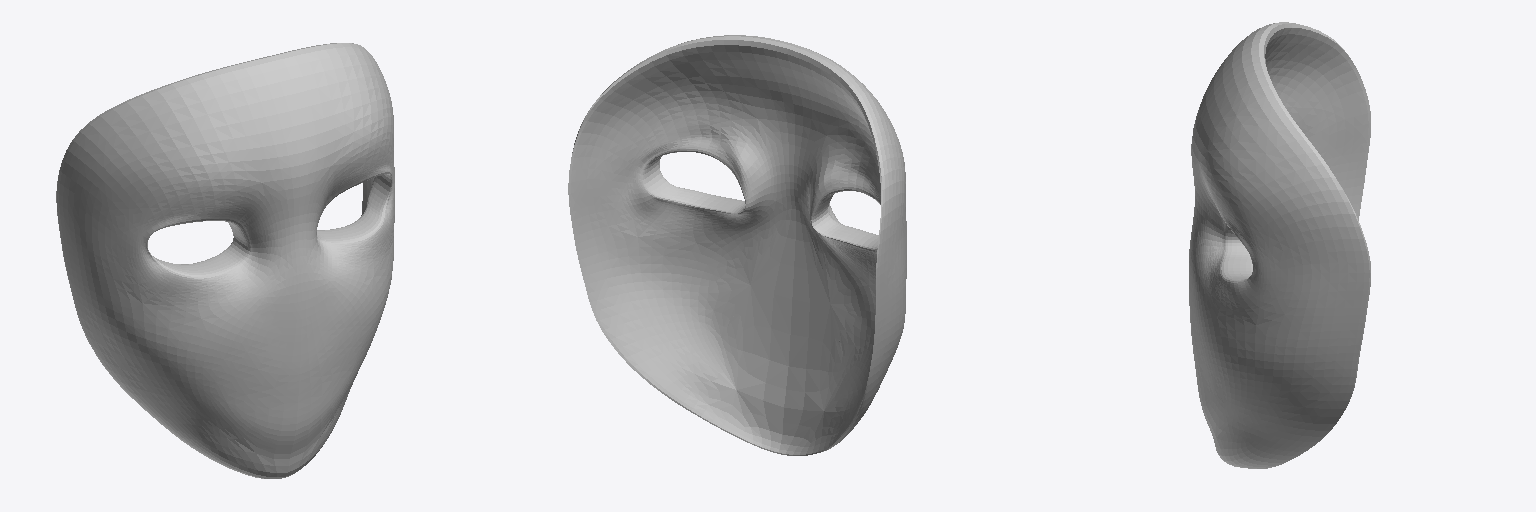
The picture shows the model from 3 angles: view 1: azimuth 30°, elevation 25°; view 2: azimuth 150°, elevation 25°; view 3: azimuth 270°, elevation 25°; orthographic projection.
Parts seen in each view (by area): view 1: body_Circle; view 2: body_Circle; view 3: body_Circle.
Part boxes in pixels (left/top/right/bottom): body_Circle: left=56, top=43, right=394, bottom=478; body_Circle: left=568, top=35, right=906, bottom=455; body_Circle: left=1189, top=22, right=1370, bottom=468.
Size of the model in its own units: 16.37 by 20.8 by 8.36.